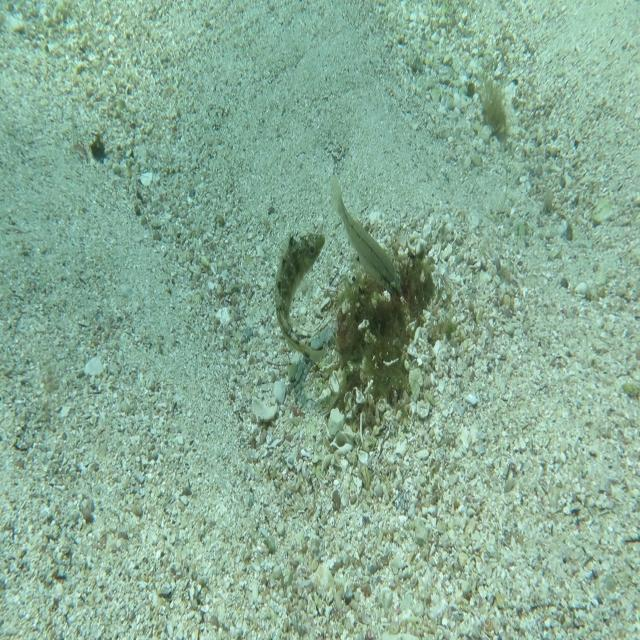BEND: (273, 226, 327, 364)
female: (330, 174, 403, 297)
nest: (324, 228, 454, 432)
